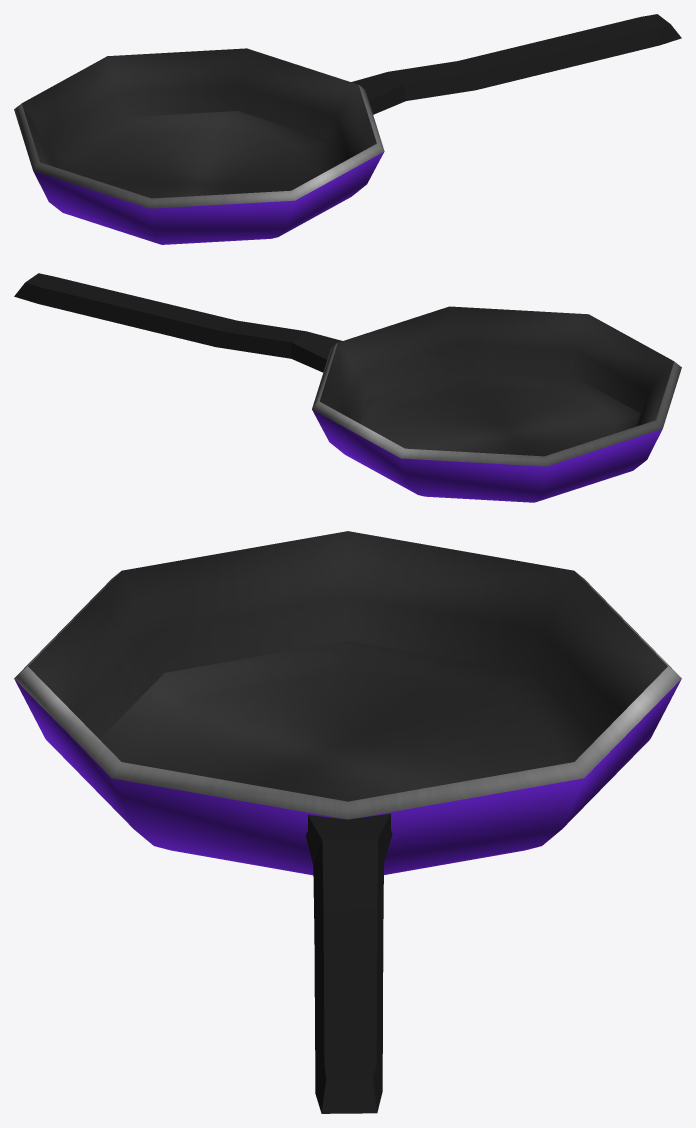
The model's file is Frying_Pan_F.FBX.
3 views of the same model, one above another, from view 1: azimuth 30°, elevation 25°; view 2: azimuth 150°, elevation 25°; view 3: azimuth 270°, elevation 25° (orthographic). The views are drawn at different scales.
Visible parts, largest first — view 1: Frying_Pan; view 2: Frying_Pan; view 3: Frying_Pan.
Part boxes in pixels (bbox=[...]): Frying_Pan: bbox=[14, 14, 681, 244]; Frying_Pan: bbox=[14, 273, 681, 502]; Frying_Pan: bbox=[14, 531, 681, 1113].
Bounding box in the file's own units: 141 × 13.23 × 73.2.
